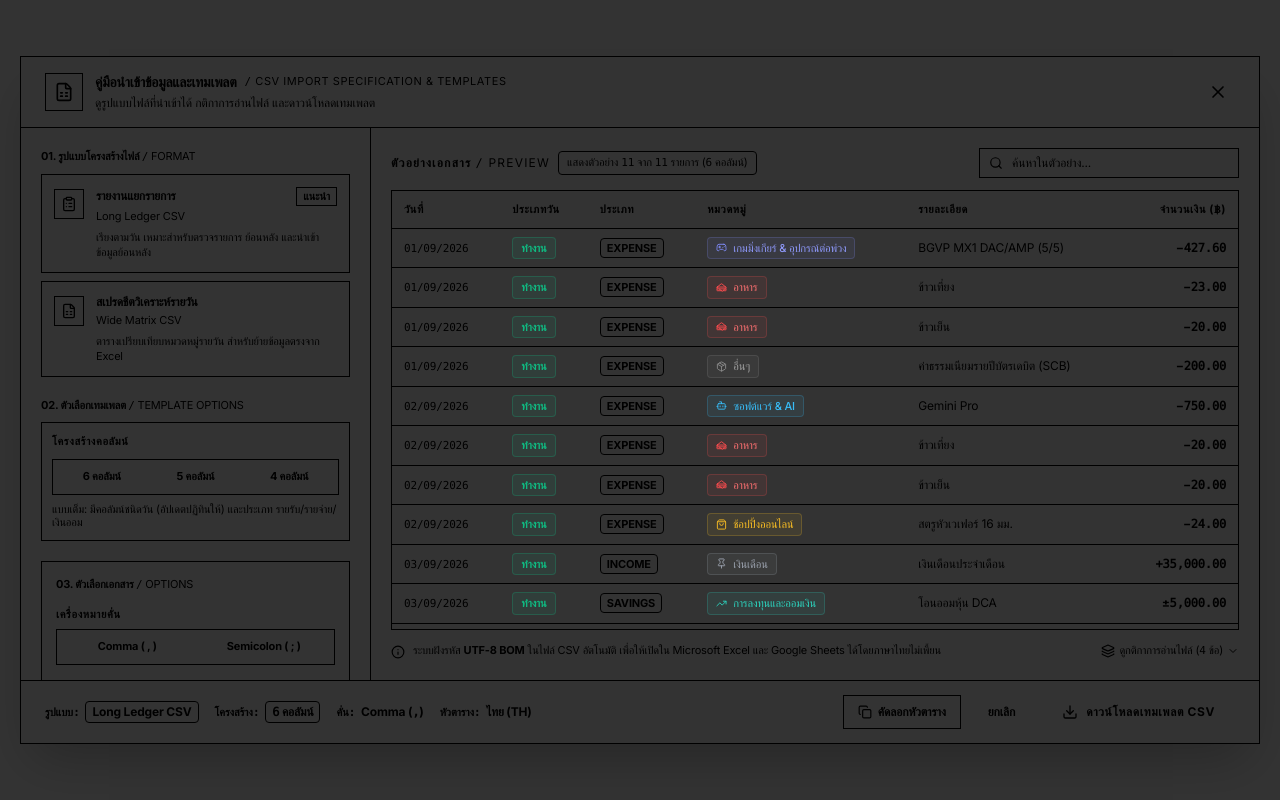
ImportGuideModal — long format › the footer follows the delimiter
Click the button "Semicolon ( ; )": (264, 647) x1=198 y1=634 x2=330 y2=660
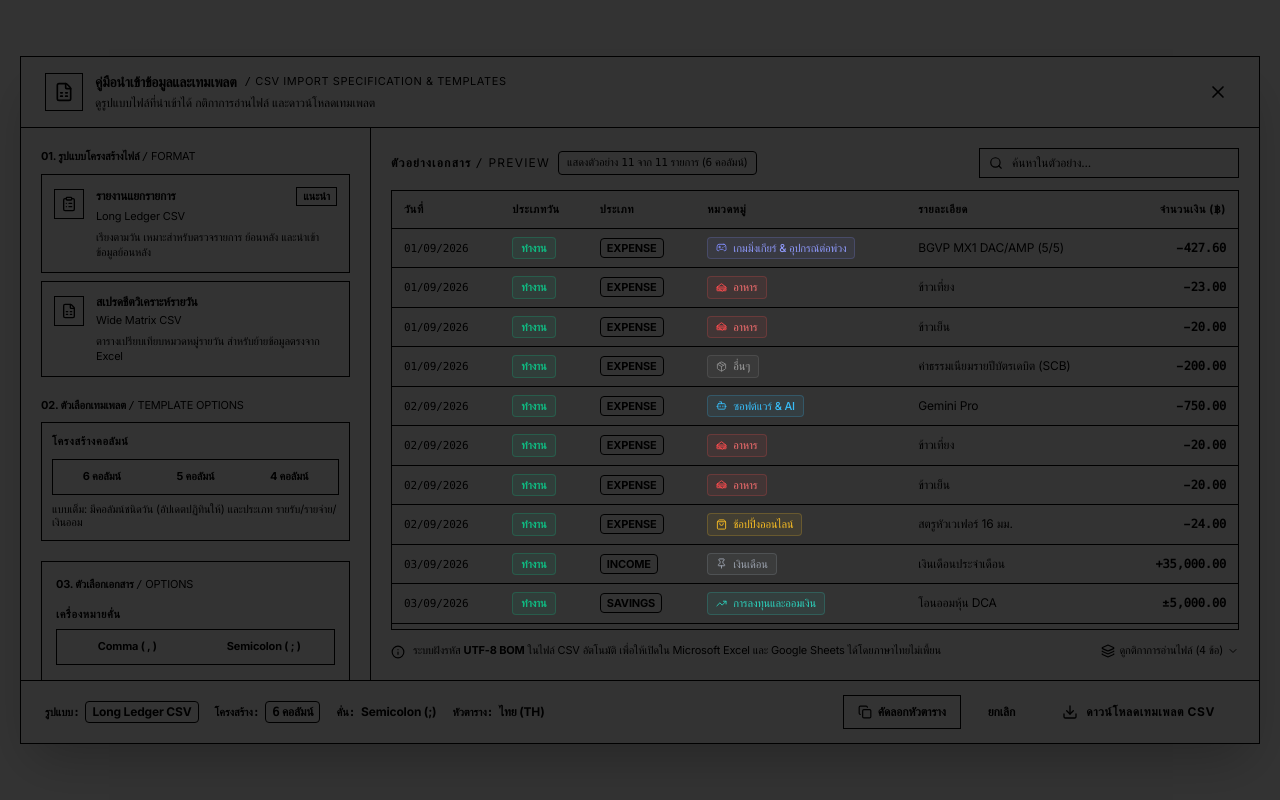
Check: the text "Semicolon (;)" is shown, box x1=361 y1=704 x2=436 y2=720
Click the button "Comma ( , )": (127, 647) x1=61 y1=634 x2=194 y2=660
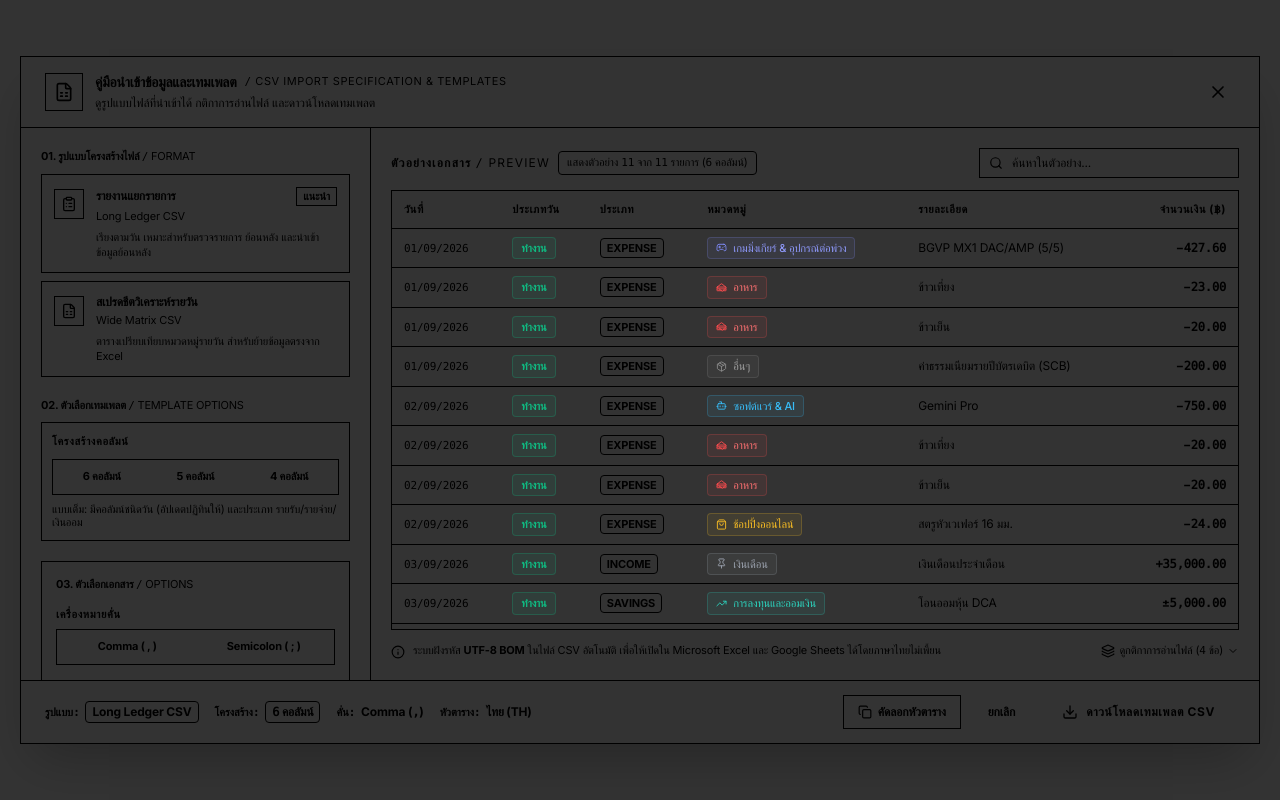
Check: the text "Comma (,)" is shown, box x1=361 y1=704 x2=424 y2=720
